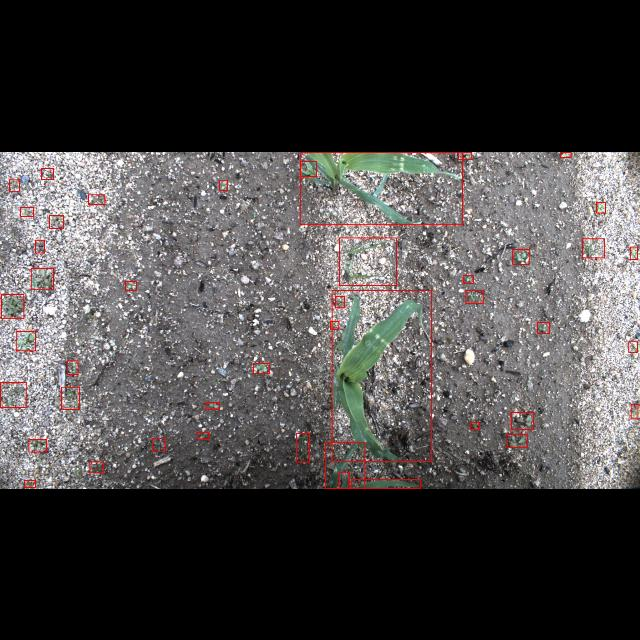crop: (332, 290, 432, 460), (300, 152, 462, 224), (325, 442, 365, 488), (351, 479, 421, 488), (339, 472, 349, 488)
weed: (339, 237, 396, 285), (1, 382, 26, 408), (2, 294, 24, 318), (31, 268, 54, 288), (582, 238, 604, 258), (296, 432, 310, 462), (16, 331, 36, 351), (62, 387, 80, 409), (511, 412, 534, 428), (513, 248, 529, 264), (301, 160, 317, 176), (29, 438, 47, 452), (507, 434, 527, 446), (152, 438, 166, 452), (466, 290, 482, 302), (49, 215, 63, 228), (88, 194, 105, 204), (253, 363, 269, 373), (68, 360, 78, 374), (90, 462, 104, 472), (20, 207, 34, 216), (41, 168, 53, 178), (9, 178, 19, 190), (537, 322, 549, 332), (630, 404, 638, 418), (125, 280, 136, 290), (630, 247, 638, 260), (596, 202, 606, 212), (628, 341, 638, 351), (36, 240, 44, 252), (24, 480, 36, 488), (206, 402, 220, 408), (458, 152, 472, 158), (219, 180, 227, 190), (463, 275, 473, 283), (336, 296, 344, 306), (331, 321, 339, 329), (198, 432, 208, 438), (470, 422, 480, 428), (560, 152, 572, 156)
